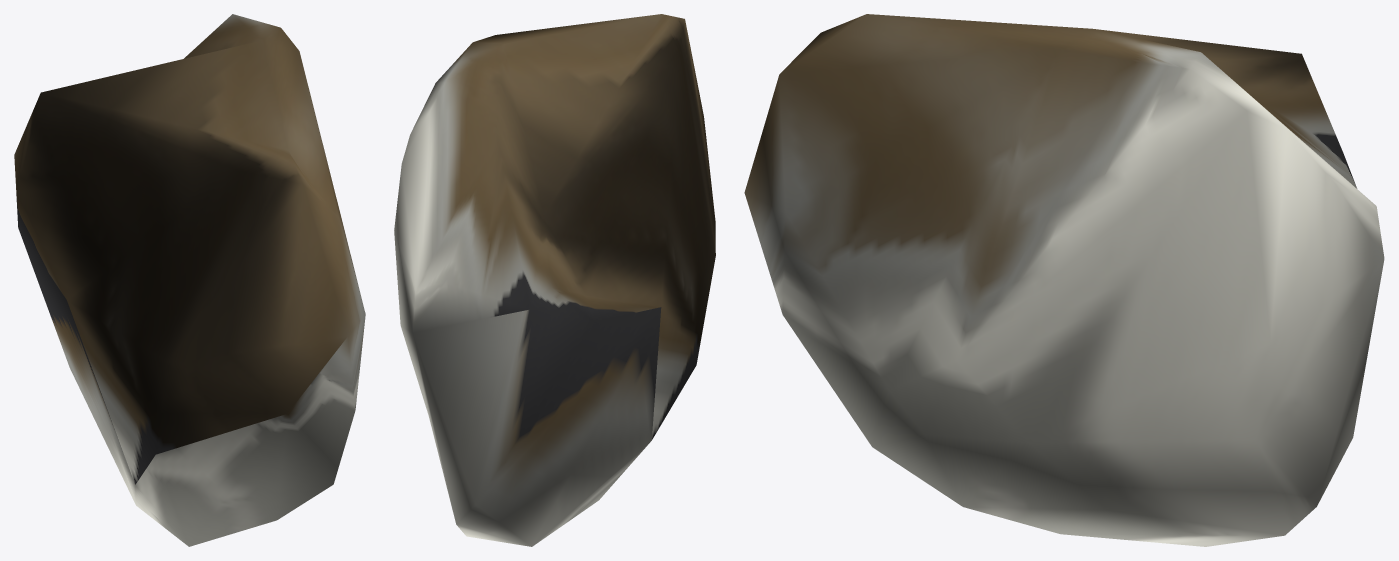
File: THROWINGSTONE.fbx
3 views of the same model, side by side, from view 1: azimuth 30°, elevation 25°; view 2: azimuth 150°, elevation 25°; view 3: azimuth 270°, elevation 25° (orthographic). The views are drawn at different scales.
Parts seen in each view (by area): view 1: THROWINGSTONE; view 2: THROWINGSTONE; view 3: THROWINGSTONE.
Boxes of the visible parts, x1=… form: THROWINGSTONE: x1=14, y1=14, x2=365, y2=546; THROWINGSTONE: x1=394, y1=14, x2=715, y2=546; THROWINGSTONE: x1=744, y1=14, x2=1384, y2=546.
Size of the model in its own units: 316 by 681 by 702.
